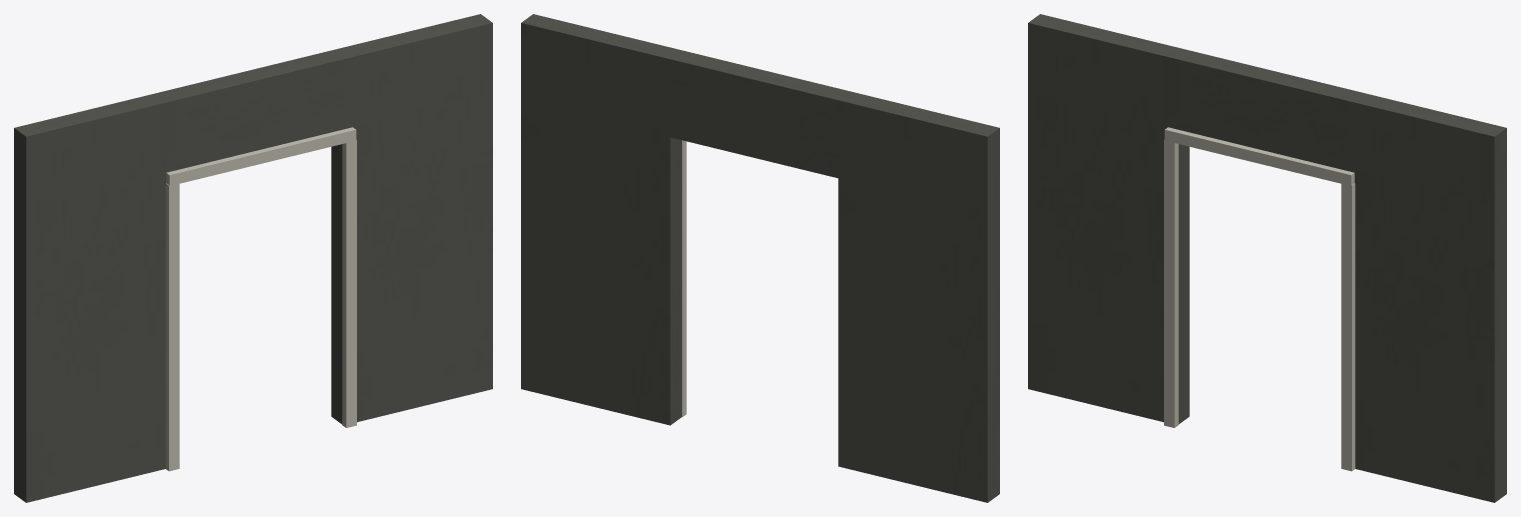
The model's file is wall-door-4m.glb.
3 renders of one model, left to right at view 1: azimuth 30°, elevation 25°; view 2: azimuth 150°, elevation 25°; view 3: azimuth 330°, elevation 25°, orthographic.
Parts seen in each view (by area): view 1: Wall pier, Wall pier.001, Lintel, Architrave, Architrave.001, Architrave top; view 2: Wall pier, Wall pier.001, Lintel, Architrave.001; view 3: Wall pier.001, Wall pier, Lintel, Architrave.001, Architrave, Architrave top.
Part boxes in pixels (x1,y1,x2,y2): Wall pier: (14,91,175,502); Wall pier.001: (331,14,492,424); Lintel: (164,50,343,170); Architrave: (165,183,179,471); Architrave.001: (342,140,356,427); Architrave top: (166,127,356,185); Wall pier: (838,91,999,502); Wall pier.001: (521,14,681,425); Lintel: (670,50,849,178); Architrave.001: (682,140,686,417); Wall pier.001: (1345,91,1506,502); Wall pier: (1028,14,1189,424); Lintel: (1177,50,1356,170); Architrave.001: (1341,183,1355,471); Architrave: (1164,140,1178,427); Architrave top: (1164,127,1354,185).
Size of the model in its own units: 4 by 3 by 0.23.
2 materials, 1 textured.
